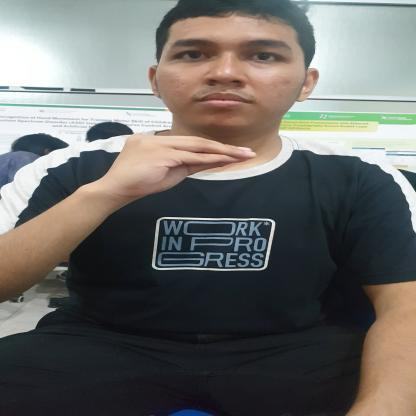Malam: (67, 127, 273, 222)
